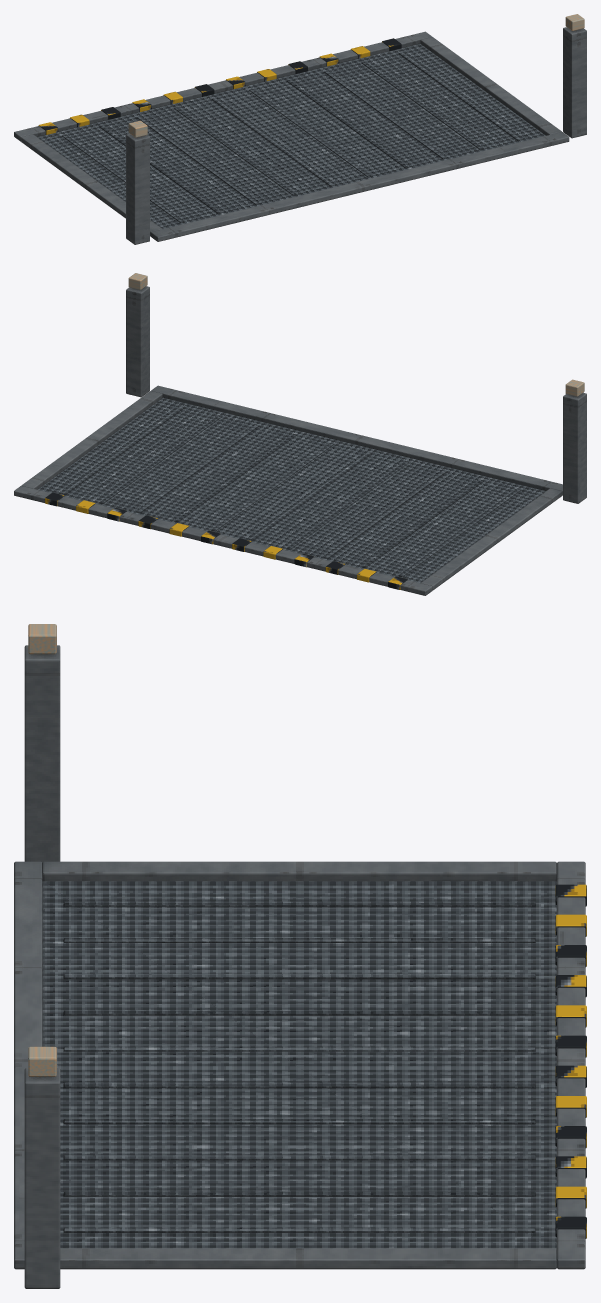
File: base_cargo_lift.glb
3 renders of one model, top to bottom at view 1: azimuth 30°, elevation 25°; view 2: azimuth 150°, elevation 25°; view 3: azimuth 270°, elevation 25°, orthographic. The views are drawn at different scales.
Parts seen in each view (by area): view 1: base_cargo_lift.001; view 2: base_cargo_lift.001; view 3: base_cargo_lift.001.
Boxes of the visible parts, x1,y1,x2,y2 form: base_cargo_lift.001: [14, 14, 586, 244]; base_cargo_lift.001: [14, 273, 586, 595]; base_cargo_lift.001: [14, 624, 586, 1288].
Size of the model in its own units: 7.25 by 1.78 by 4.01.
Materials: 4 (4 with a texture image).
